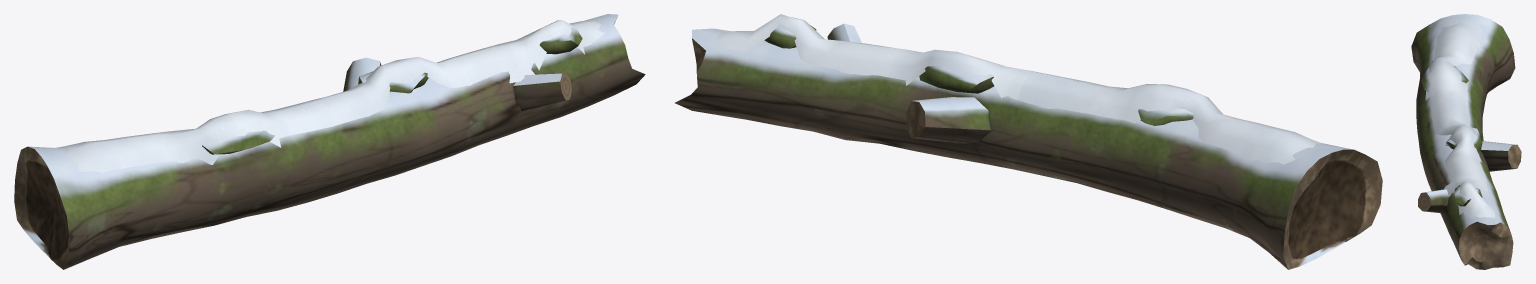
File: fm_log_mossy_fallen_c_snow.glb
The picture shows the model from 3 angles, left to right: view 1: azimuth 30°, elevation 25°; view 2: azimuth 150°, elevation 25°; view 3: azimuth 270°, elevation 25°; orthographic projection. The views are drawn at different scales.
Parts seen in each view (by area): view 1: fm_log_mossy_fallen_c_snow; view 2: fm_log_mossy_fallen_c_snow; view 3: fm_log_mossy_fallen_c_snow.
Boxes of the visible parts, x1=… form: fm_log_mossy_fallen_c_snow: x1=14, y1=14, x2=645, y2=269; fm_log_mossy_fallen_c_snow: x1=675, y1=14, x2=1382, y2=269; fm_log_mossy_fallen_c_snow: x1=1411, y1=14, x2=1521, y2=269.
Bounding box in the file's own units: 3.1 × 0.5014 × 0.6987.
2 materials, 2 textured.
